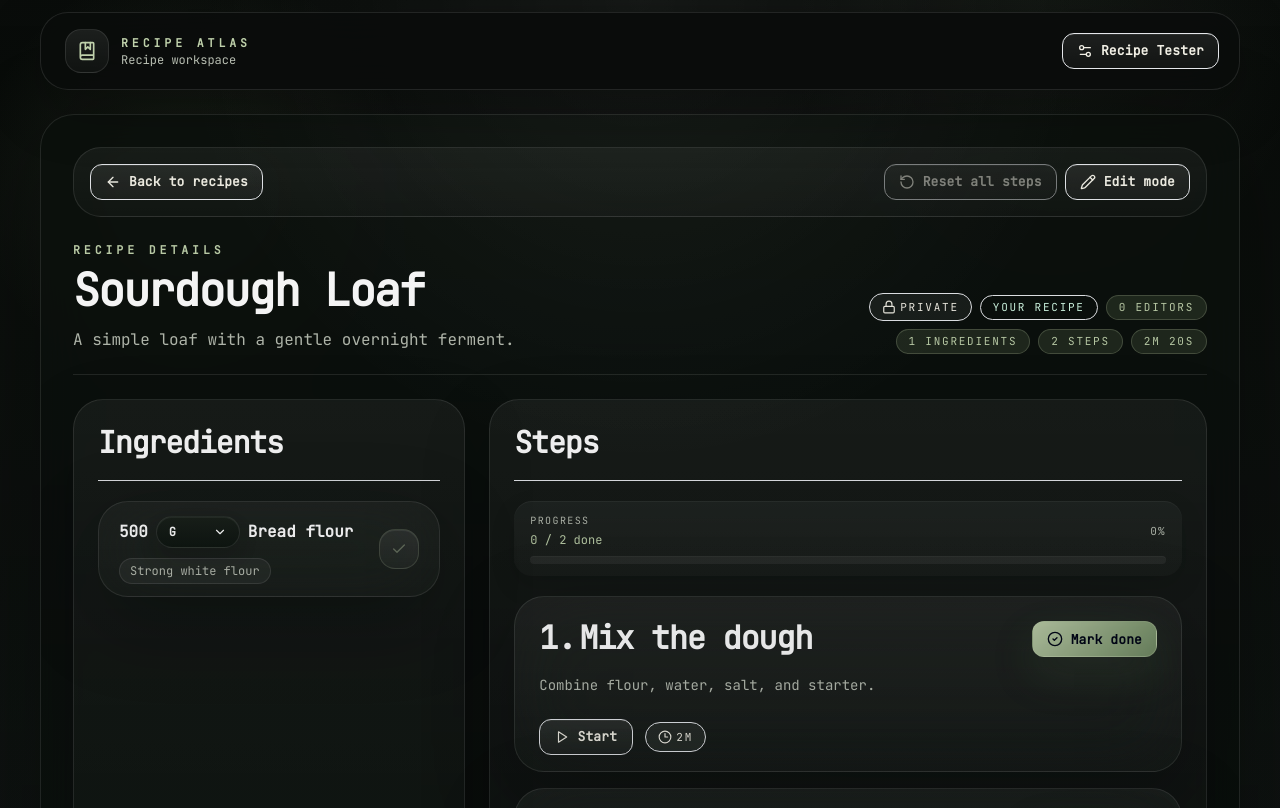
Test case: AppShell › signs out from user settings instead of the header
Expected: the button "sign out" is not shown
Click the button "Recipe Tester": (1140, 51) [1062,33,1219,69]
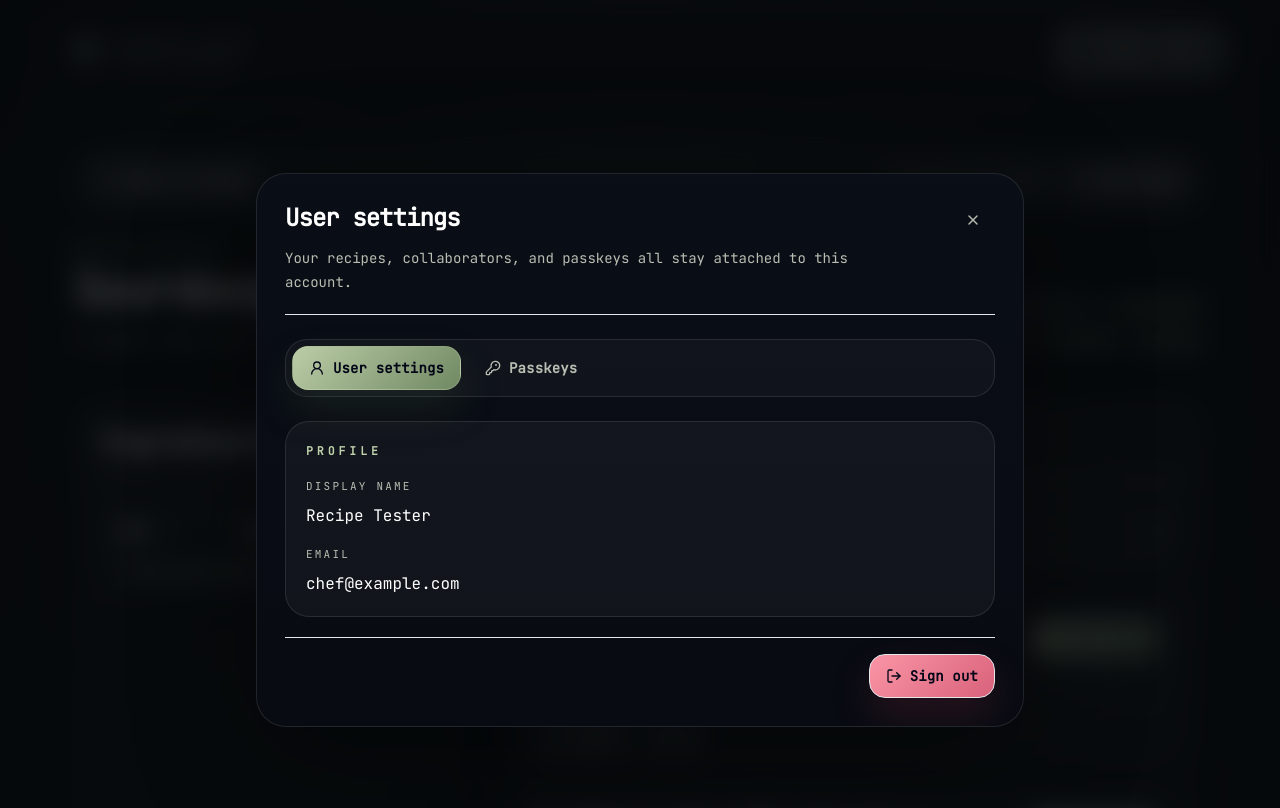
Click the button "Sign out": (932, 676) [869,654,995,698]
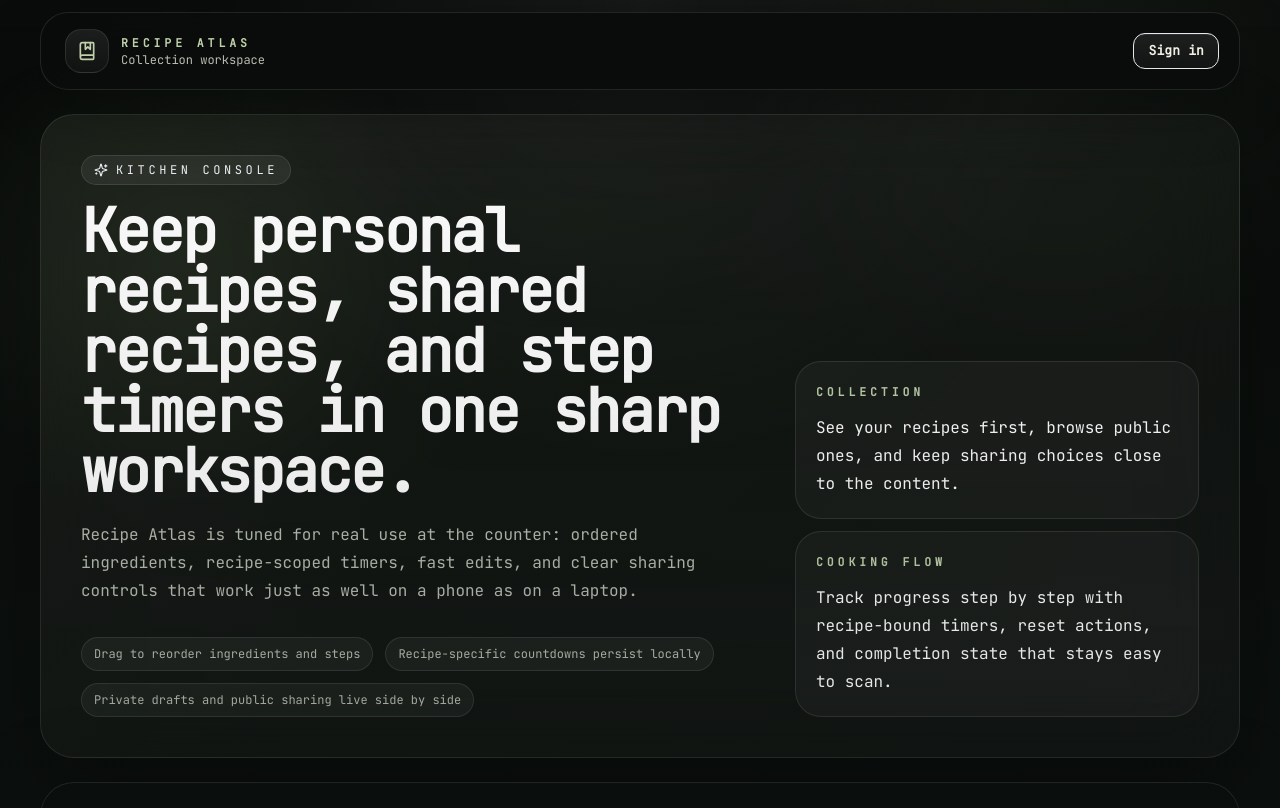
Expected: the button "Sign in" is shown, [1134,33,1219,69]
